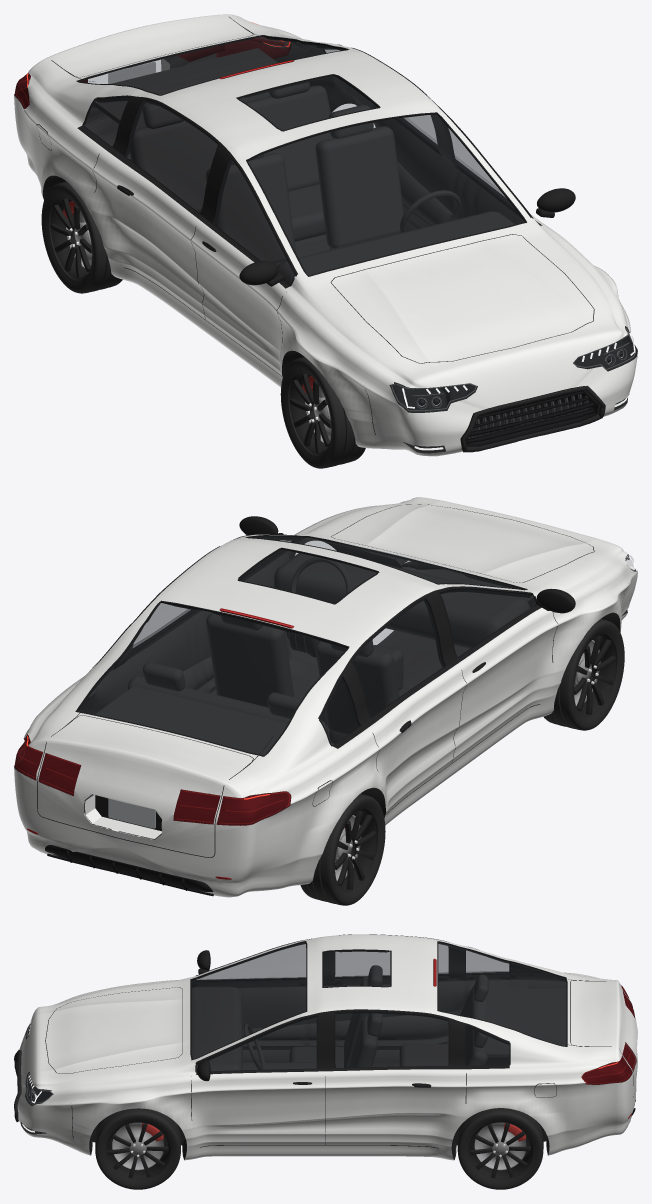
The model's file is sedan.glb.
3 renders of one model, top to bottom at view 1: azimuth 30°, elevation 25°; view 2: azimuth 150°, elevation 25°; view 3: azimuth 270°, elevation 25°, orthographic. The views are drawn at different scales.
Visible parts, largest first — view 1: body, interior, glass_windshield, glass_back, glass_rear_right, window_trim, window_seals, grille, glass_sunroof, glass_front_right, tire_front_right, tire_rear_right (+10 smaller); view 2: body, interior, glass_back, glass_rear_right, window_trim, window_seals, glass_sunroof, glass_front_right, tire_rear_right, taillight_lens_right, tire_front_right, taillight_right (+14 smaller); view 3: body, interior, glass_back, glass_windshield, glass_rear_left, window_trim, window_seals, glass_front_left, rim_front_left, rim_rear_left, tire_rear_left, tire_front_left (+11 smaller).
Part boxes in pixels (<box>): body: <box>14,14,637,456</box>; interior: <box>93,48,514,284</box>; glass_windshield: <box>248,114,524,275</box>; glass_back: <box>80,36,343,94</box>; glass_rear_right: <box>125,100,217,212</box>; window_trim: <box>77,46,542,288</box>; window_seals: <box>76,35,533,286</box>; grille: <box>460,385,605,452</box>; glass_sunroof: <box>240,76,377,129</box>; glass_front_right: <box>213,159,294,284</box>; tire_front_right: <box>280,357,365,468</box>; tire_rear_right: <box>41,181,122,293</box>; body: <box>14,497,637,897</box>; interior: <box>95,553,530,755</box>; glass_back: <box>78,603,346,754</box>; glass_rear_right: <box>353,599,443,716</box>; window_trim: <box>96,536,541,748</box>; window_seals: <box>75,534,537,756</box>; glass_sunroof: <box>240,549,376,603</box>; glass_front_right: <box>440,589,535,656</box>; tire_rear_right: <box>300,793,385,905</box>; taillight_lens_right: <box>173,789,291,825</box>; tire_front_right: <box>543,619,624,730</box>; taillight_right: <box>174,790,290,824</box>; body: <box>17,934,637,1160</box>; interior: <box>191,965,566,1129</box>; glass_back: <box>438,943,565,1045</box>; glass_windshield: <box>192,942,305,1058</box>; glass_rear_left: <box>335,1012,448,1067</box>; window_trim: <box>196,942,509,1074</box>; window_seals: <box>190,934,567,1072</box>; glass_front_left: <box>197,1016,316,1070</box>; rim_front_left: <box>105,1121,170,1180</box>; rim_rear_left: <box>468,1121,533,1180</box>; tire_rear_left: <box>457,1108,543,1189</box>; tire_front_left: <box>95,1108,180,1189</box>.
Bounding box in the file's own units: 2.26 × 1.45 × 4.82.
